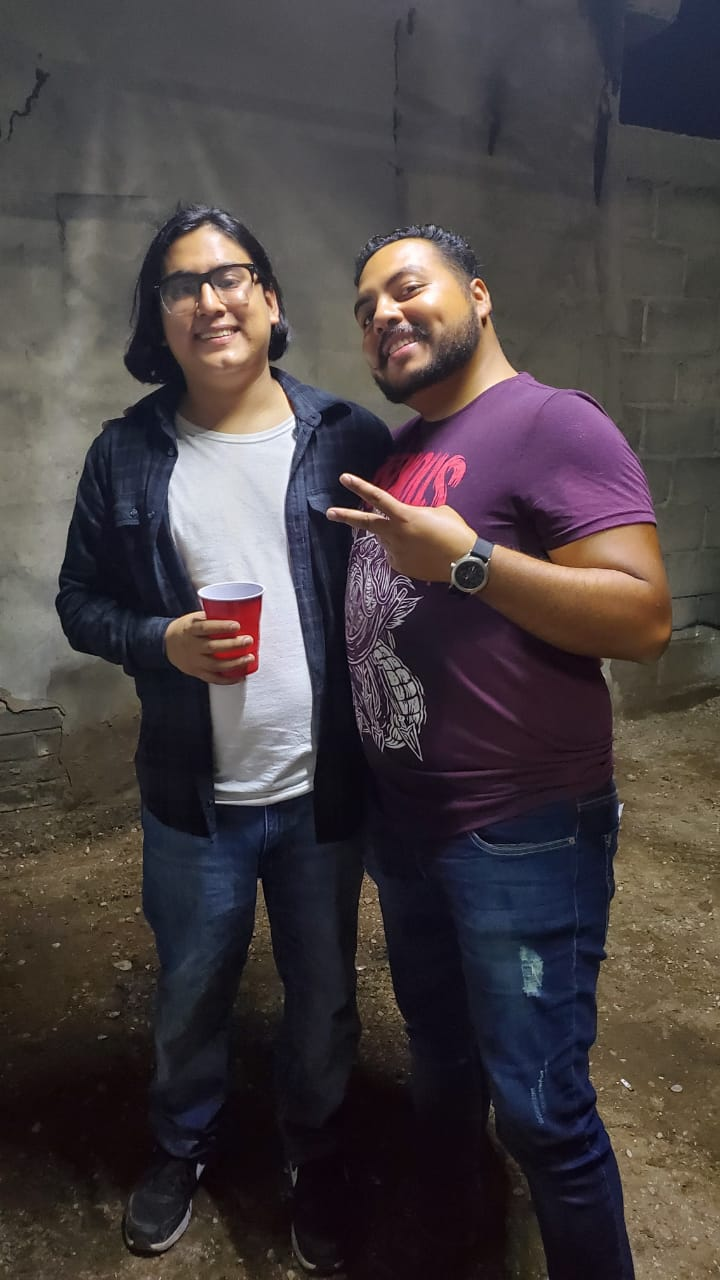Yoshi: (296, 191, 572, 546)
